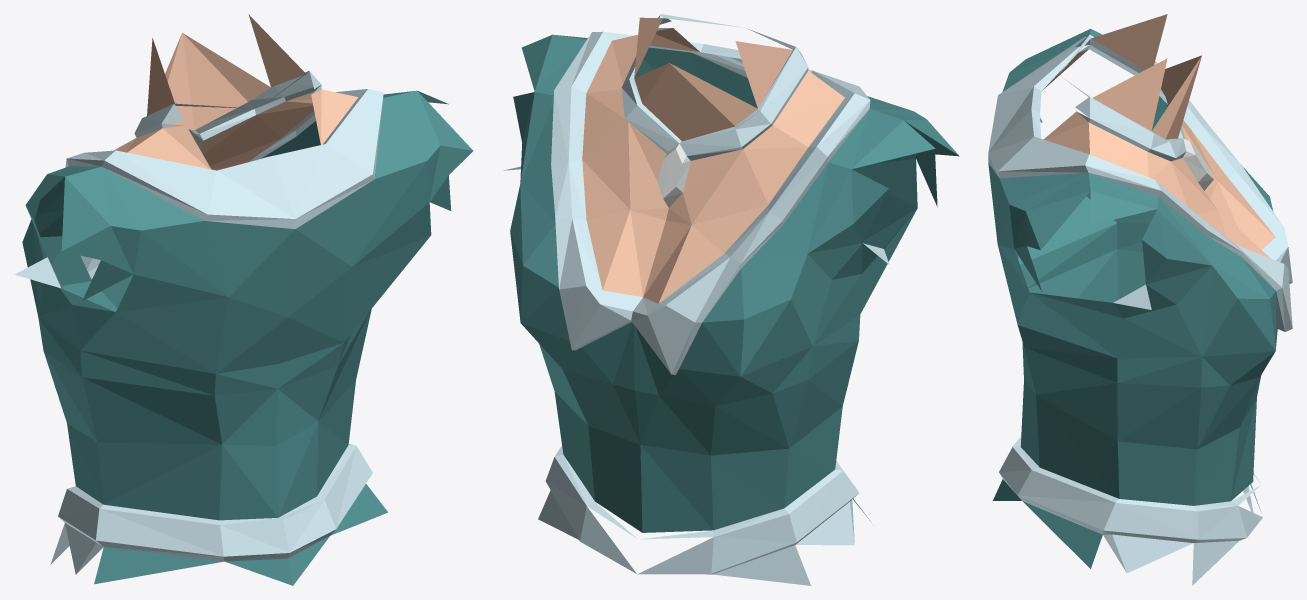
The model's file is Torso.obj.
3 renders of one model, left to right at view 1: azimuth 30°, elevation 25°; view 2: azimuth 150°, elevation 25°; view 3: azimuth 270°, elevation 25°, orthographic. The views are drawn at different scales.
Size of the model in its own units: 0.4676 by 0.5543 by 0.3142.
Materials: 1 (1 with a texture image).
